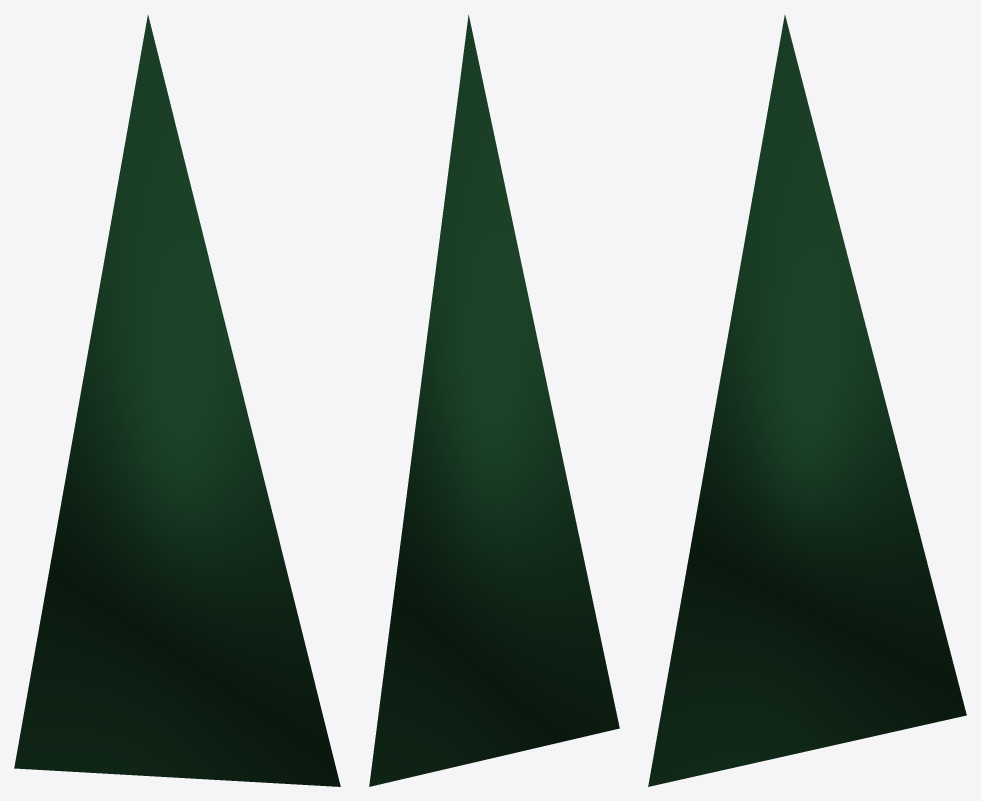
Rendered from whSpruce1_distant.glb.
3 renders of one model, left to right at view 1: azimuth 30°, elevation 25°; view 2: azimuth 150°, elevation 25°; view 3: azimuth 270°, elevation 25°, orthographic. The views are drawn at different scales.
Parts seen in each view (by area): view 1: Cube; view 2: Cube; view 3: Cube.
Part boxes in pixels (x1,y1,x2,y2): Cube: (14, 15, 340, 786); Cube: (369, 15, 619, 786); Cube: (648, 15, 966, 786).
Bounding box in the file's own units: 6.8 × 18.31 × 7.38.
